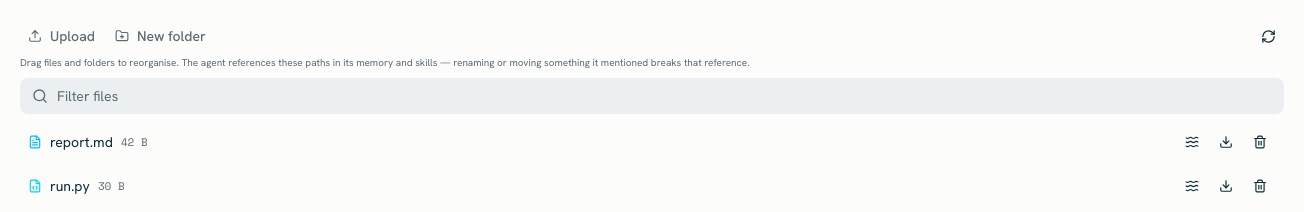
Test: opening a document from the files tree › goes back to the tree before it goes back to the menu
Click the button "report.md".
click(81, 142)  # box left=50, top=132, right=113, bottom=152
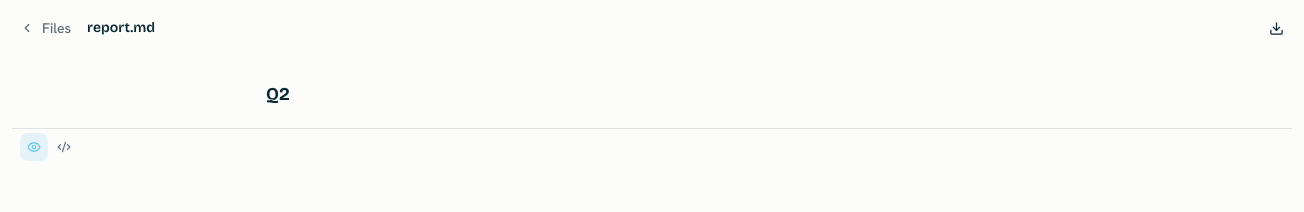
The header's back control is the first button in the panel.
Click the button "Files".
click(46, 28)  # box left=12, top=12, right=79, bottom=44
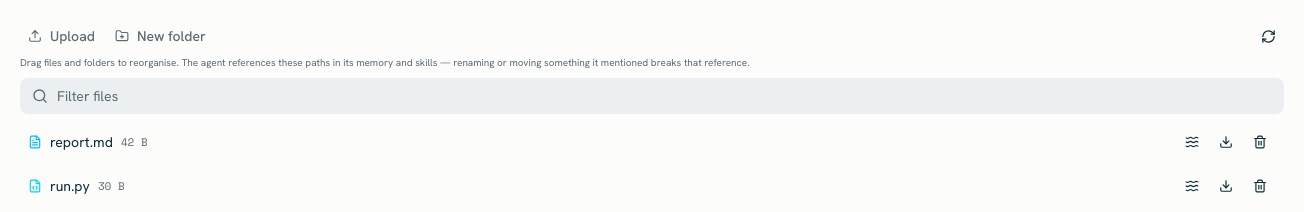
Check: the text "run.py" is shown, box left=50, top=176, right=90, bottom=196
